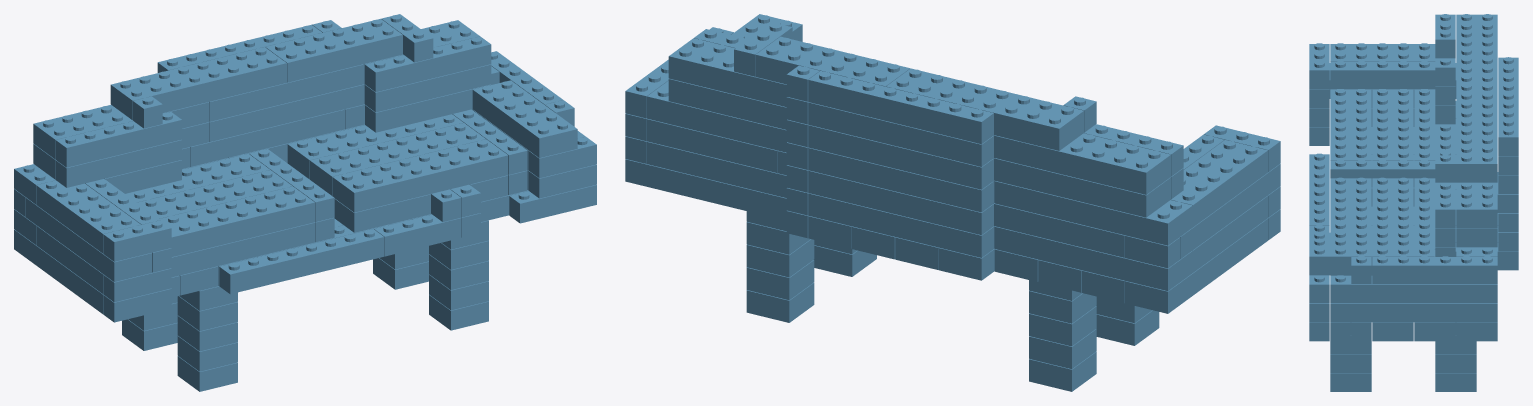
File: collab_sofa-L5V1_raw.glb
The picture shows the model from 3 angles, left to right: view 1: azimuth 30°, elevation 25°; view 2: azimuth 150°, elevation 25°; view 3: azimuth 270°, elevation 25°; orthographic projection. The views are drawn at different scales.
Bounding box in the file's own units: 24.98 × 12.13 × 9.98.
